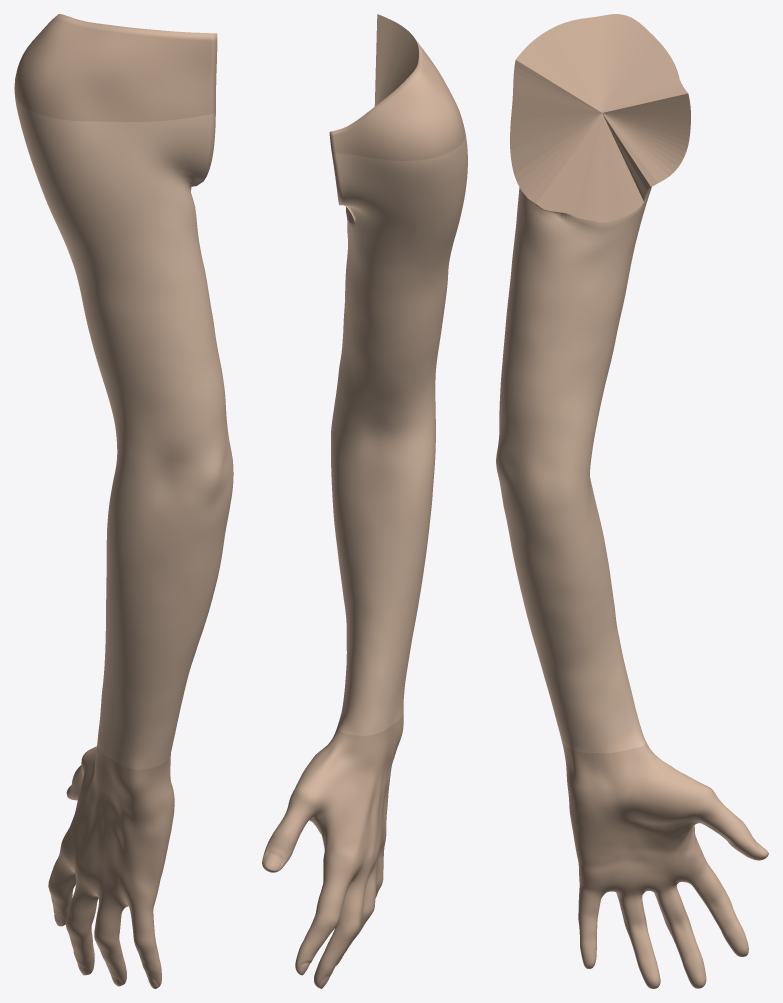
File: female-arm-left.glb
The picture shows the model from 3 angles, left to right: view 1: azimuth 30°, elevation 25°; view 2: azimuth 150°, elevation 25°; view 3: azimuth 270°, elevation 25°; orthographic projection. The views are drawn at different scales.
Visible parts, largest first — view 1: paintable, context; view 2: paintable, context; view 3: context, paintable.
Part boxes in pixels (x1=…): paintable: x1=14, y1=93, x2=233, y2=769; context: x1=14, y1=14, x2=217, y2=988; paintable: x1=331, y1=133, x2=467, y2=735; context: x1=262, y1=14, x2=465, y2=988; context: x1=510, y1=14, x2=768, y2=988; paintable: x1=496, y1=187, x2=651, y2=753.
Bounding box in the file's own units: 143 × 819 × 213.
